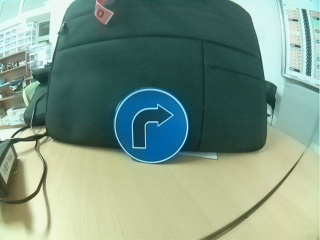right_turn: (115, 87, 192, 164)
